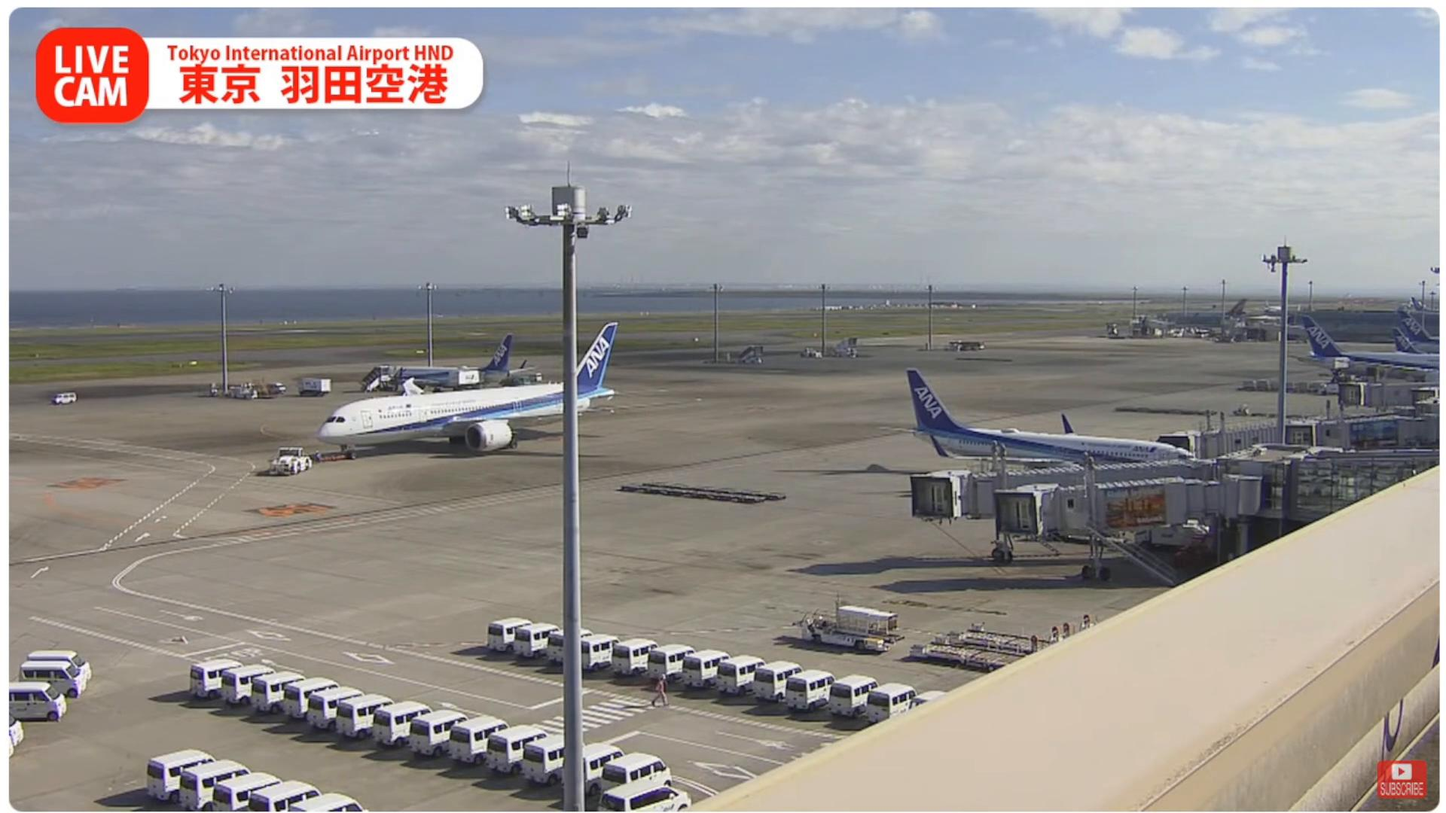APS: (268, 447, 311, 477)
Aerobridge: (908, 441, 1211, 561), (994, 453, 1262, 584)
Airplane: (318, 323, 703, 457)
Dolly: (620, 483, 767, 504), (647, 480, 786, 501)
JCPL: (909, 629, 1060, 673), (947, 616, 1098, 651)
Skyloader: (799, 605, 904, 653)
Window: (1294, 457, 1439, 519)
